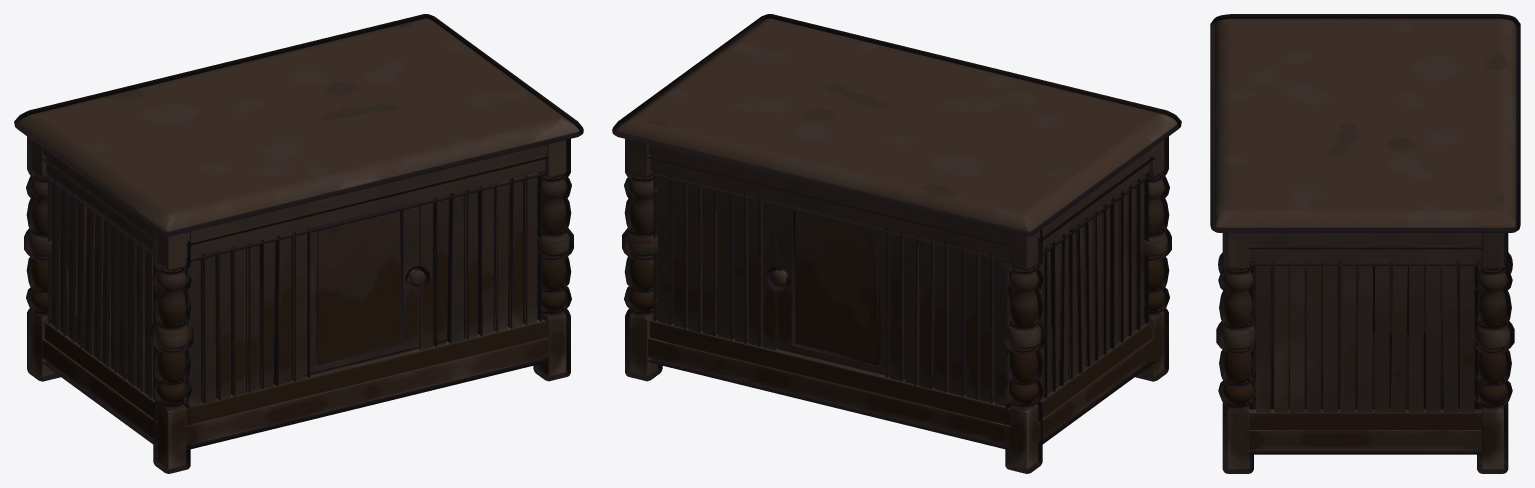
File: SM_Int_CafeTable.fbx
The picture shows the model from 3 angles, left to right: view 1: azimuth 30°, elevation 25°; view 2: azimuth 150°, elevation 25°; view 3: azimuth 270°, elevation 25°; orthographic projection.
Visible parts, largest first — view 1: SM_Int_CafeTable; view 2: SM_Int_CafeTable; view 3: SM_Int_CafeTable.
Part boxes in pixels (x1=…): SM_Int_CafeTable: x1=14, y1=14, x2=583, y2=473; SM_Int_CafeTable: x1=612, y1=14, x2=1181, y2=473; SM_Int_CafeTable: x1=1210, y1=14, x2=1520, y2=473.
Size of what is drawn, in the model's own units: 0.845 by 0.5038 by 0.5336.
